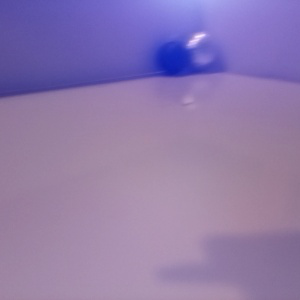alive_ball: (184, 30, 217, 68)
dead_ball: (155, 40, 188, 74)
